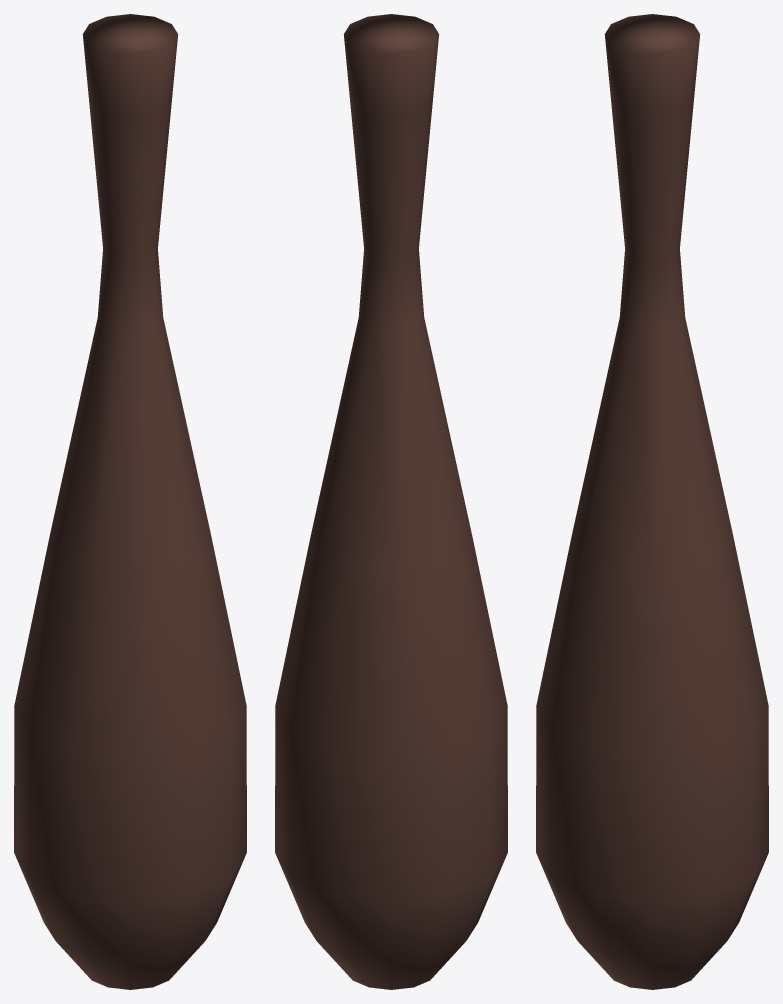
File: mace.fbx
3 views of the same model, side by side, from view 1: azimuth 30°, elevation 25°; view 2: azimuth 150°, elevation 25°; view 3: azimuth 270°, elevation 25° (orthographic).
Parts seen in each view (by area): view 1: mace; view 2: mace; view 3: mace.
Part boxes in pixels (<box>): mace: <box>14,14,246,989</box>; mace: <box>275,14,507,989</box>; mace: <box>536,14,768,989</box>.
Bounding box in the file's own units: 41.15 × 186 × 41.15.
